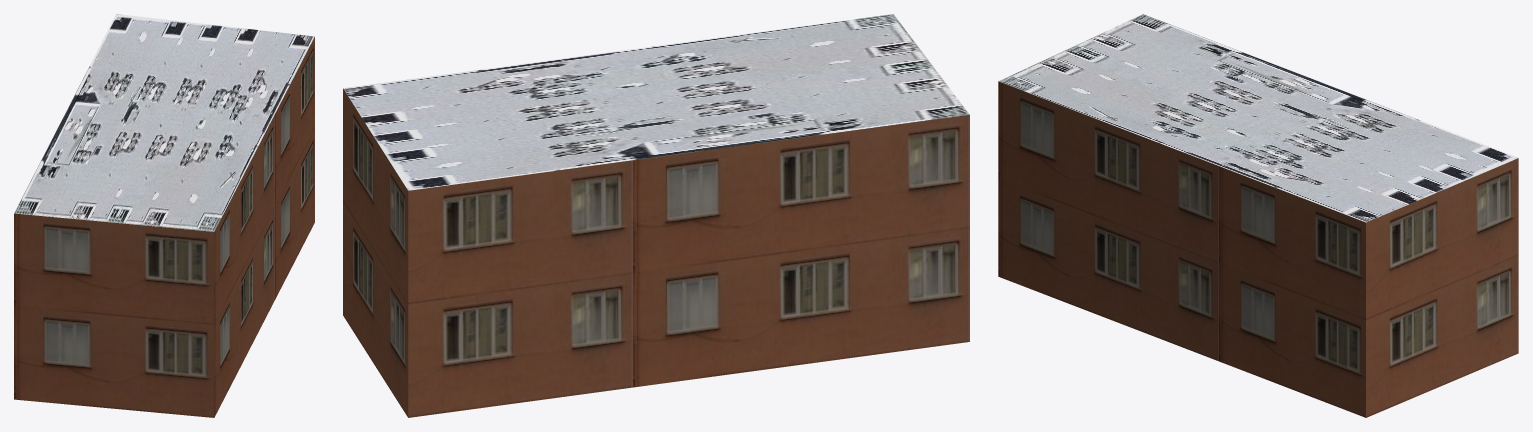
The model's file is ResTex__2986.fbx.
3 renders of one model, left to right at view 1: azimuth 30°, elevation 25°; view 2: azimuth 150°, elevation 25°; view 3: azimuth 270°, elevation 25°, orthographic. The views are drawn at different scales.
Parts seen in each view (by area): view 1: CityEngineMaterial_20_m, CityEngineMaterial_8_m; view 2: CityEngineMaterial_20_m, CityEngineMaterial_8_m; view 3: CityEngineMaterial_20_m, CityEngineMaterial_8_m.
Part boxes in pixels (left/top/right/bottom): CityEngineMaterial_20_m: left=14, top=37, right=314, bottom=417; CityEngineMaterial_8_m: left=14, top=14, right=314, bottom=231; CityEngineMaterial_20_m: left=343, top=88, right=969, bottom=417; CityEngineMaterial_8_m: left=343, top=14, right=969, bottom=190; CityEngineMaterial_20_m: left=998, top=81, right=1518, bottom=417; CityEngineMaterial_8_m: left=998, top=14, right=1517, bottom=222.
Size of the model in its own units: 13.74 by 6 by 14.49.
2 materials, 2 textured.
